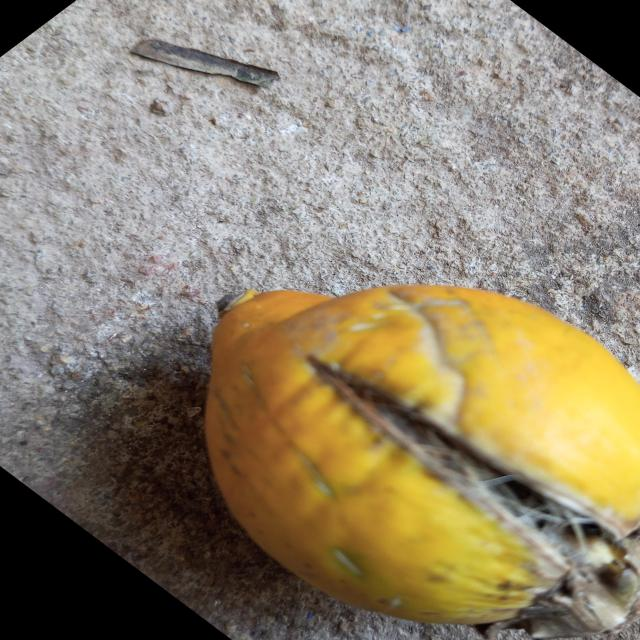damaged: (204, 284, 640, 640)
